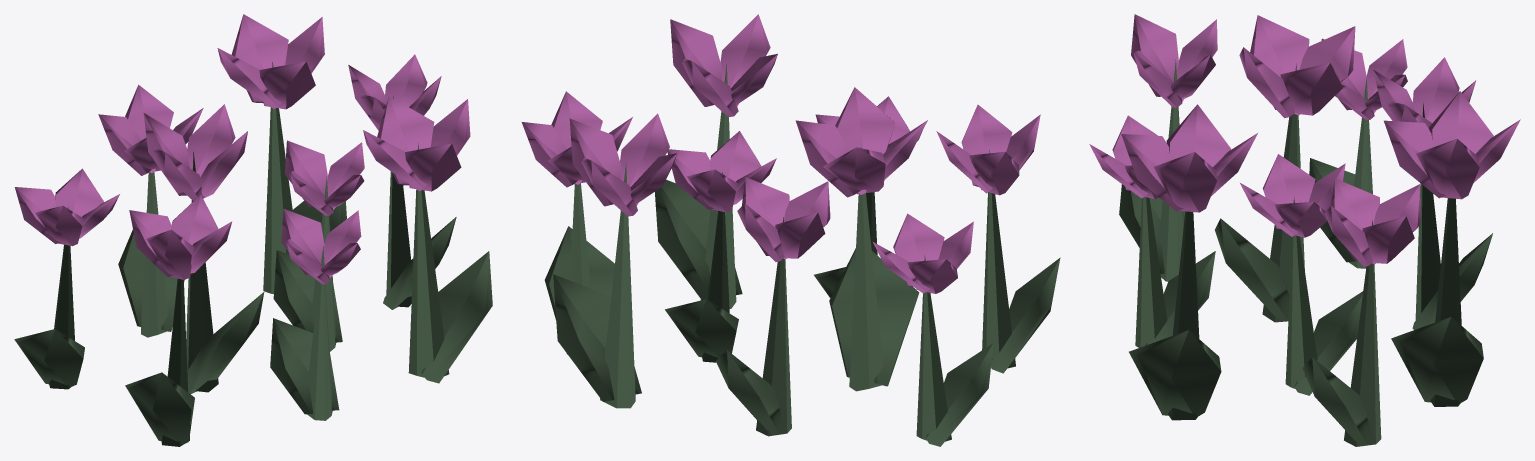
Rendered from flower_patch.fbx.
3 renders of one model, left to right at view 1: azimuth 30°, elevation 25°; view 2: azimuth 150°, elevation 25°; view 3: azimuth 270°, elevation 25°, orthographic. The views are drawn at different scales.
Parts seen in each view (by area): view 1: leaf (×9), flower_stem (×9), flower_petal (×9), flower_petal3 (×9), flower_petal1 (×9), flower_petal2 (×7); view 2: leaf (×8), flower_stem (×8), flower_petal3 (×8), flower_petal (×8), flower_petal2 (×7), flower_petal1 (×9); view 3: leaf (×9), flower_stem (×9), flower_petal2 (×8), flower_petal (×9), flower_petal3 (×7), flower_petal1 (×8).
Part boxes in pixels (x1=…): leaf (×9): x1=14, y1=201, x2=492, y2=444; flower_stem (×9): x1=49, y1=62, x2=449, y2=446; flower_petal (×9): x1=79, y1=14, x2=434, y2=284; flower_petal3 (×9): x1=35, y1=17, x2=470, y2=279; flower_petal1 (×9): x1=55, y1=48, x2=427, y2=275; flower_petal2 (×7): x1=14, y1=61, x2=461, y2=278; leaf (×8): x1=544, y1=179, x2=1060, y2=446; flower_stem (×8): x1=566, y1=64, x2=1015, y2=441; flower_petal3 (×8): x1=551, y1=19, x2=1040, y2=269; flower_petal (×8): x1=521, y1=58, x2=1012, y2=286; flower_petal2 (×7): x1=620, y1=14, x2=1019, y2=293; flower_petal1 (×9): x1=548, y1=53, x2=993, y2=293; leaf (×9): x1=1119, y1=158, x2=1492, y2=445; flower_stem (×9): x1=1135, y1=59, x2=1461, y2=446; flower_petal2 (×8): x1=1121, y1=15, x2=1445, y2=260; flower_petal (×9): x1=1112, y1=50, x2=1520, y2=263; flower_petal3 (×7): x1=1131, y1=14, x2=1479, y2=266; flower_petal1 (×8): x1=1089, y1=26, x2=1493, y2=264.
Bounding box in the file's own units: 1.59 × 0.9388 × 1.28.
